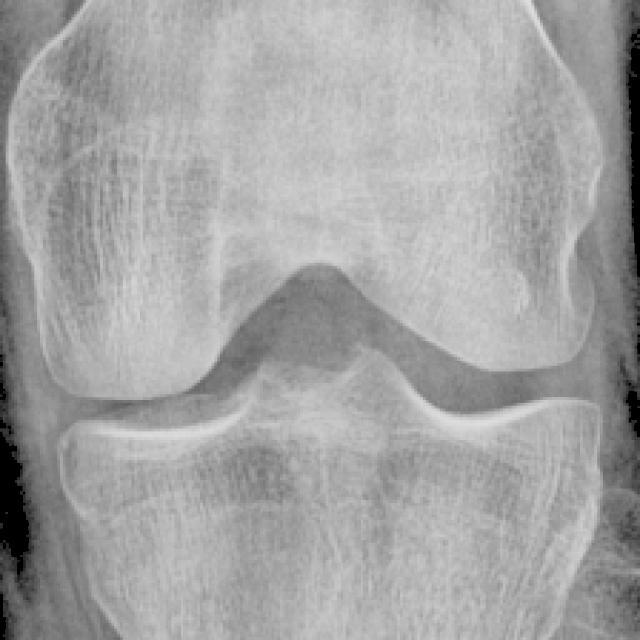femur: (9, 1, 597, 394)
tibia: (63, 349, 594, 637)
